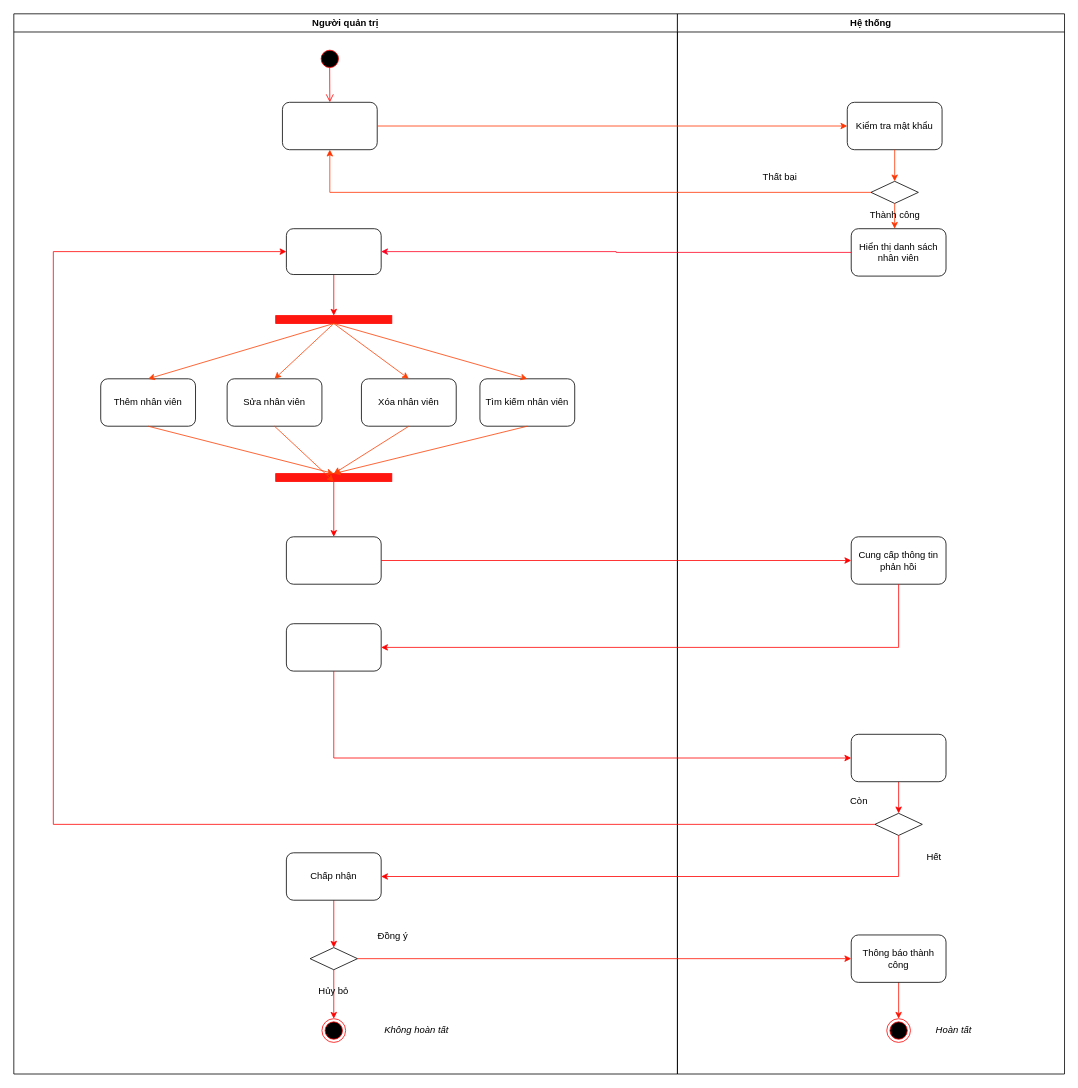
This 1078x1088 diagram has some shape labels left out. Here are the shapes that lost their labels. From the top down, the centre of each, then its label:
At point (329, 126): "Đăng nhập".
At point (333, 251): "Lựa chọn chức năng".
At point (333, 560): "Nhập thông tin nhân viên".
At point (333, 647): "Lưu thông tin".
At point (898, 758): "Hiển thị danh sách nhân viên vừa cập nhật".
